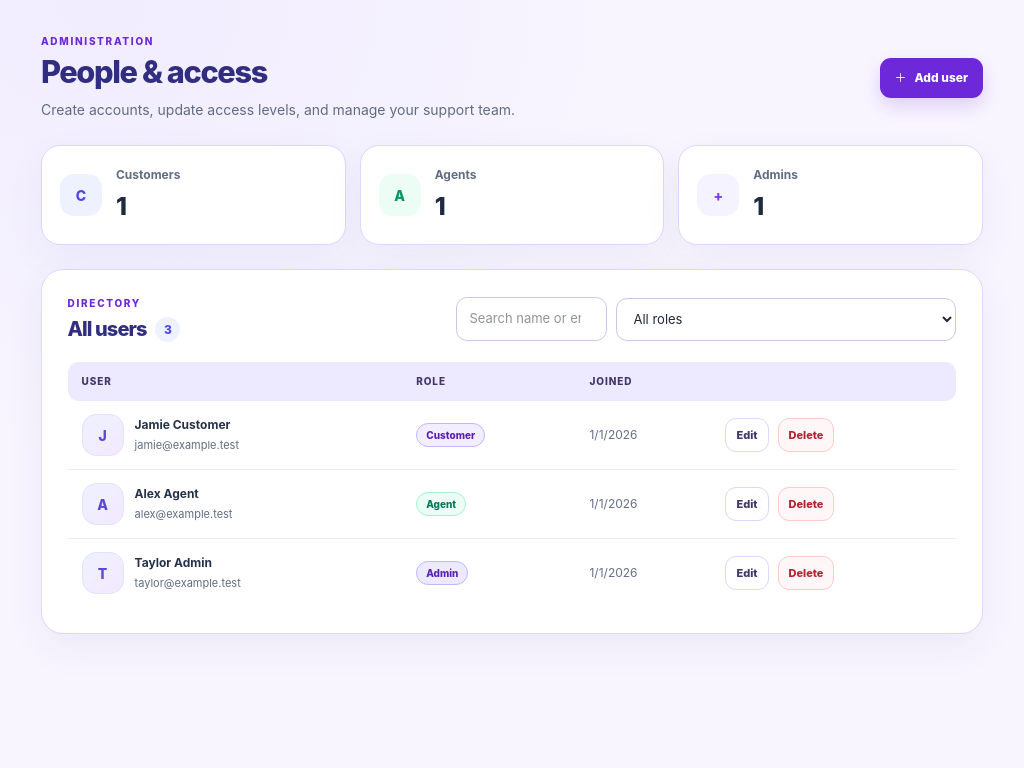
Test: Admin user management › shows all roles and filters the directory
The image size is (1024, 768).
expect the text "Jamie Customer" is shown: met, box [134, 416, 239, 434]
expect the text "Alex Agent" is shown: met, box [134, 486, 199, 501]
Select "Agent" in the dropdown named "Filter by role". click: (786, 319)
box: [616, 298, 956, 341]
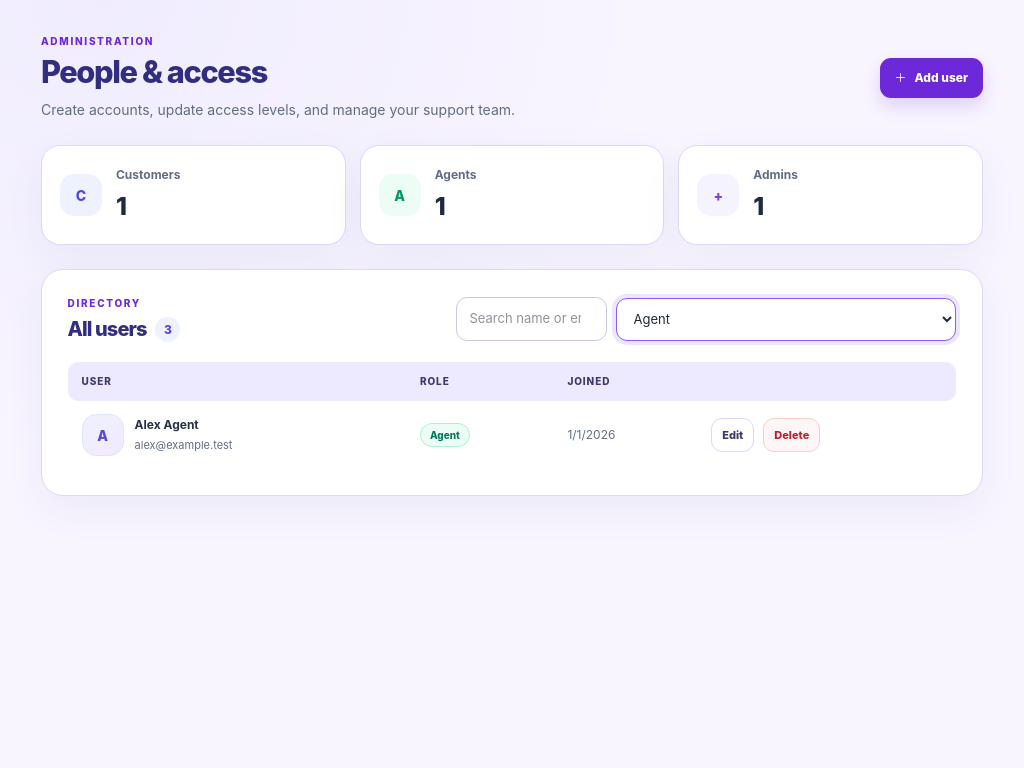
expect the text "Alex Agent" is shown: met, box [134, 417, 199, 432]
expect the text "Jamie Customer" is gone: met
